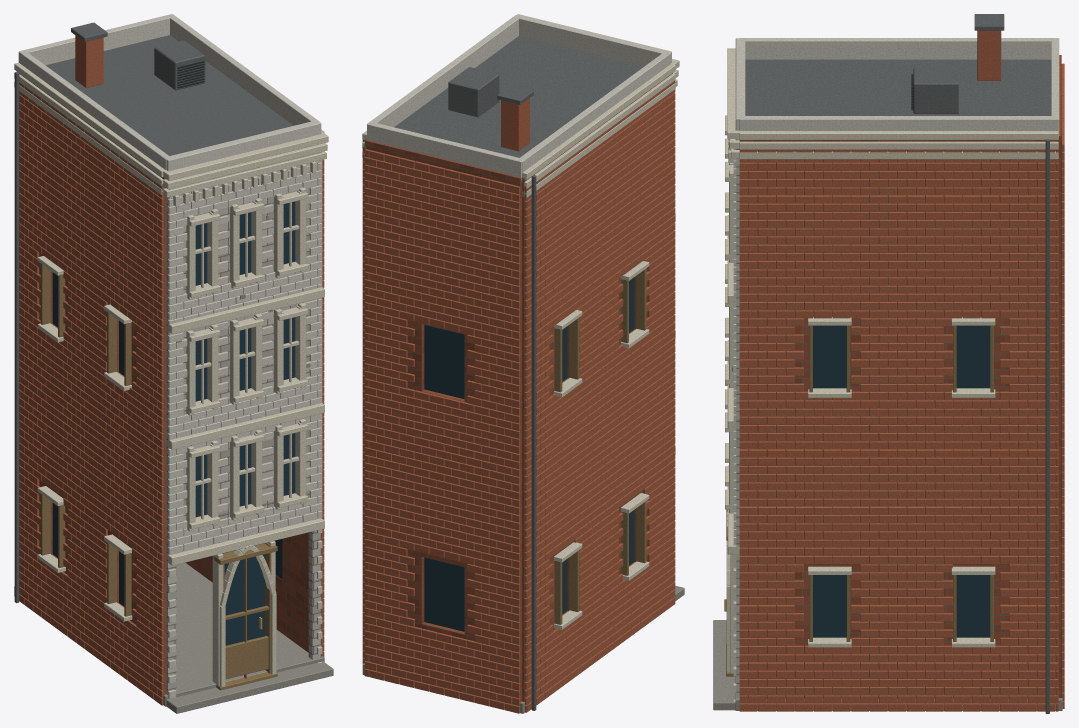
Rendered from OFFC21_lod0.glb.
The picture shows the model from 3 angles, left to right: view 1: azimuth 30°, elevation 25°; view 2: azimuth 150°, elevation 25°; view 3: azimuth 270°, elevation 25°; orthographic projection. The views are drawn at different scales.
Visible parts, largest first — view 1: OFFC21_LOD0; view 2: OFFC21_LOD0; view 3: OFFC21_LOD0.
Boxes of the visible parts, bbox=[...] form: OFFC21_LOD0: bbox=[14, 14, 333, 713]; OFFC21_LOD0: bbox=[362, 14, 684, 713]; OFFC21_LOD0: bbox=[713, 14, 1064, 713].
Bounding box in the file's own units: 4.11 × 13.05 × 6.6.
Materials: 16 (13 with a texture image).
